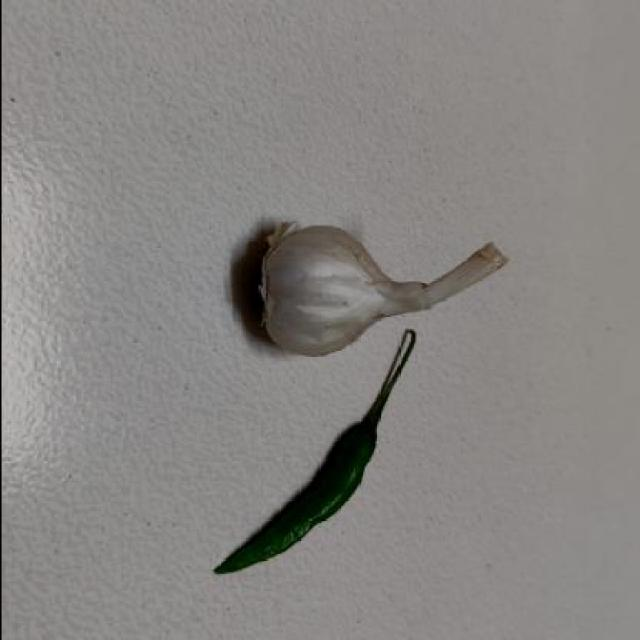Garlic: (228, 203, 523, 363)
Green Chili: (192, 366, 436, 602)
